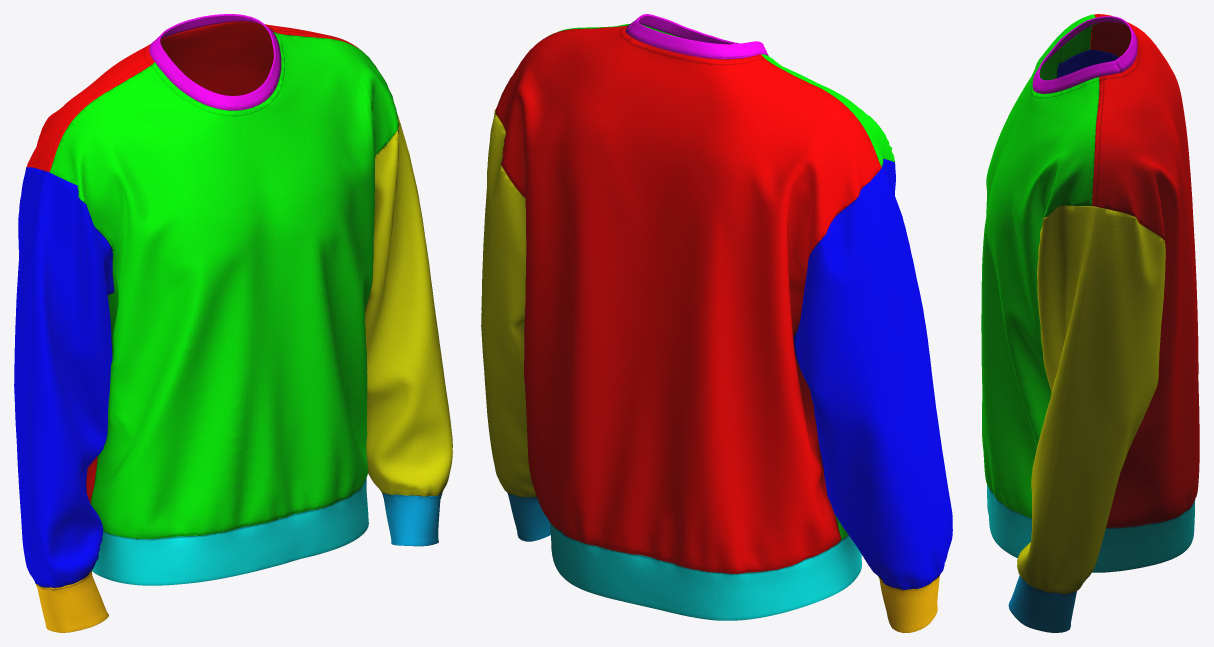
The model's file is CottonSweatshirt.glb.
The picture shows the model from 3 angles, left to right: view 1: azimuth 30°, elevation 25°; view 2: azimuth 150°, elevation 25°; view 3: azimuth 270°, elevation 25°; orthographic projection. The views are drawn at different scales.
Visible parts, largest first — view 1: 07CottonSweatshirt; view 2: 07CottonSweatshirt; view 3: 07CottonSweatshirt.
Boxes of the visible parts, box(x1,y1,x2,y2) form: 07CottonSweatshirt: box(14, 14, 452, 632); 07CottonSweatshirt: box(481, 14, 952, 632); 07CottonSweatshirt: box(981, 14, 1199, 632).
Bounding box in the file's own units: 0.5885 × 0.7273 × 0.2813.
1 material, 1 textured.
